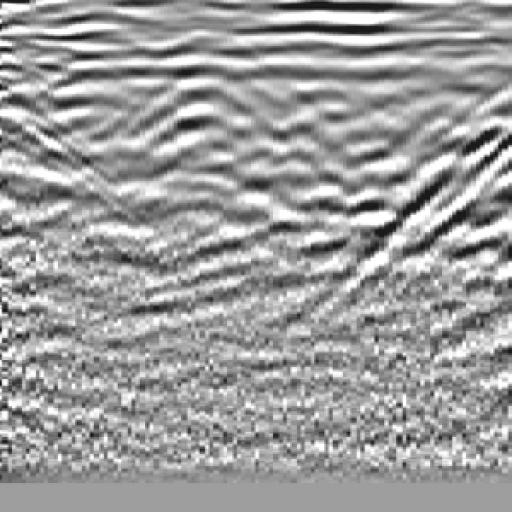metalic: (119, 41, 279, 282)
nonmetalic: (386, 42, 512, 287)
